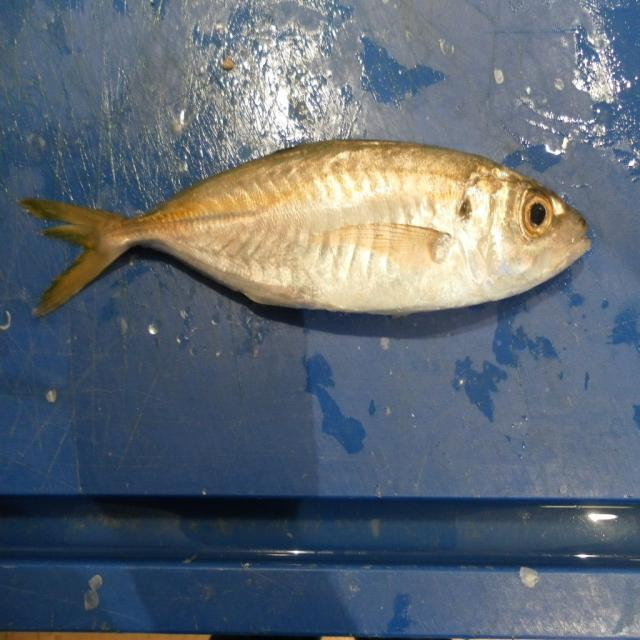Hourse-Mackerel-istavrit-: (21, 140, 592, 320)
